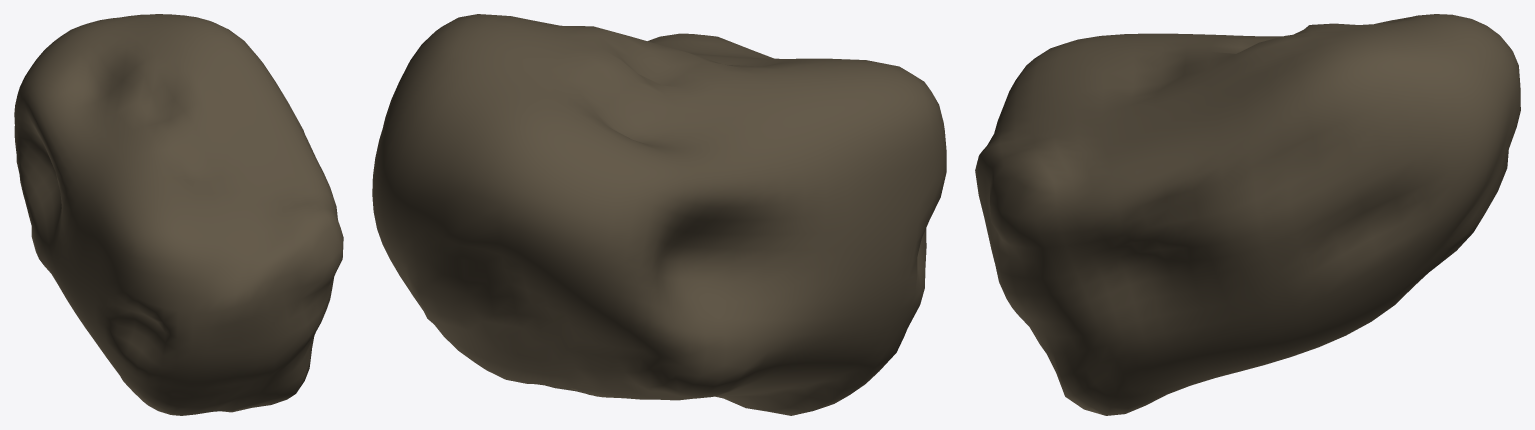
Rendered from AsteroidTexture1.fbx.
The picture shows the model from 3 angles, left to right: view 1: azimuth 30°, elevation 25°; view 2: azimuth 150°, elevation 25°; view 3: azimuth 270°, elevation 25°; orthographic projection. The views are drawn at different scales.
Visible parts, largest first — view 1: LargerAsteroid; view 2: LargerAsteroid; view 3: LargerAsteroid.
Part boxes in pixels (bbox=[...]): LargerAsteroid: bbox=[14, 14, 343, 415]; LargerAsteroid: bbox=[372, 14, 946, 415]; LargerAsteroid: bbox=[975, 14, 1520, 415].
Bounding box in the file's own units: 197 × 218 × 283.
